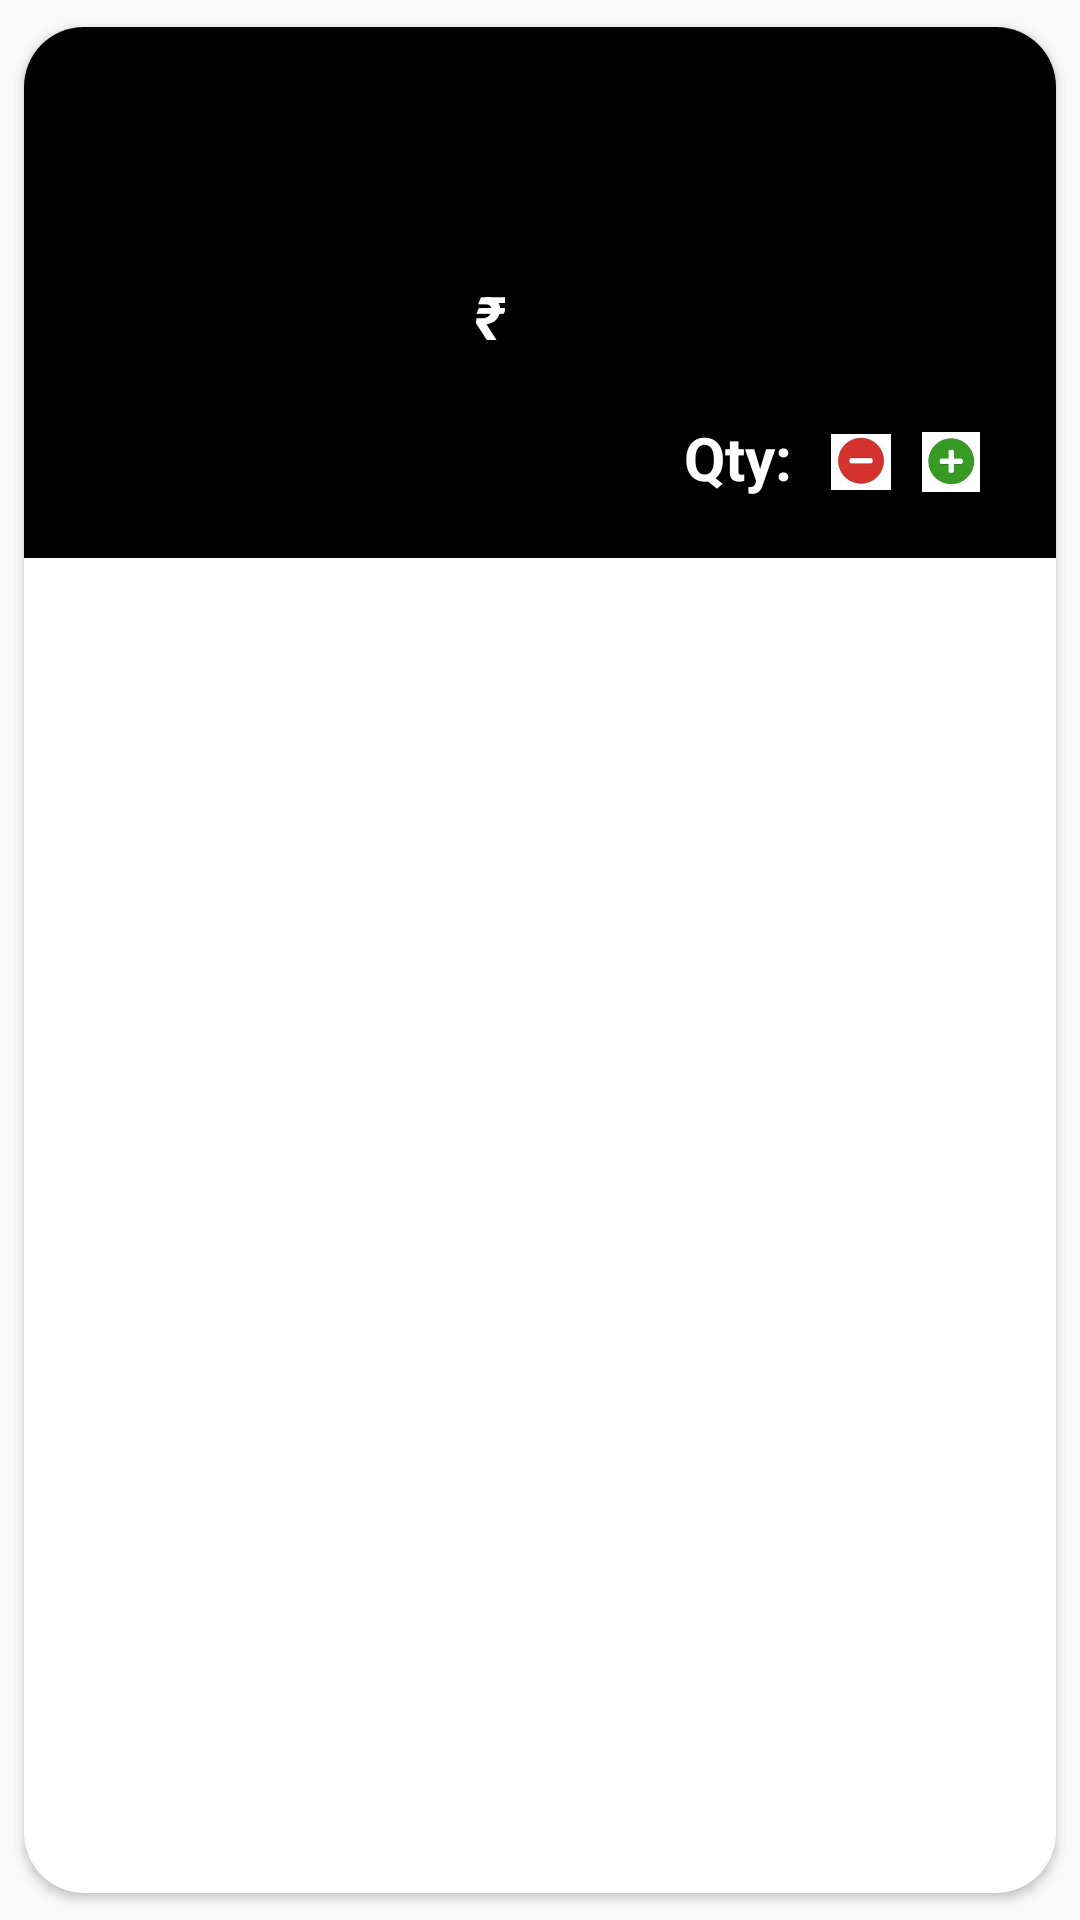

Screen size 1080×1920. Icon name, then its center in pixels as (x,y):
dec: (861,462)
inc: (951,462)
